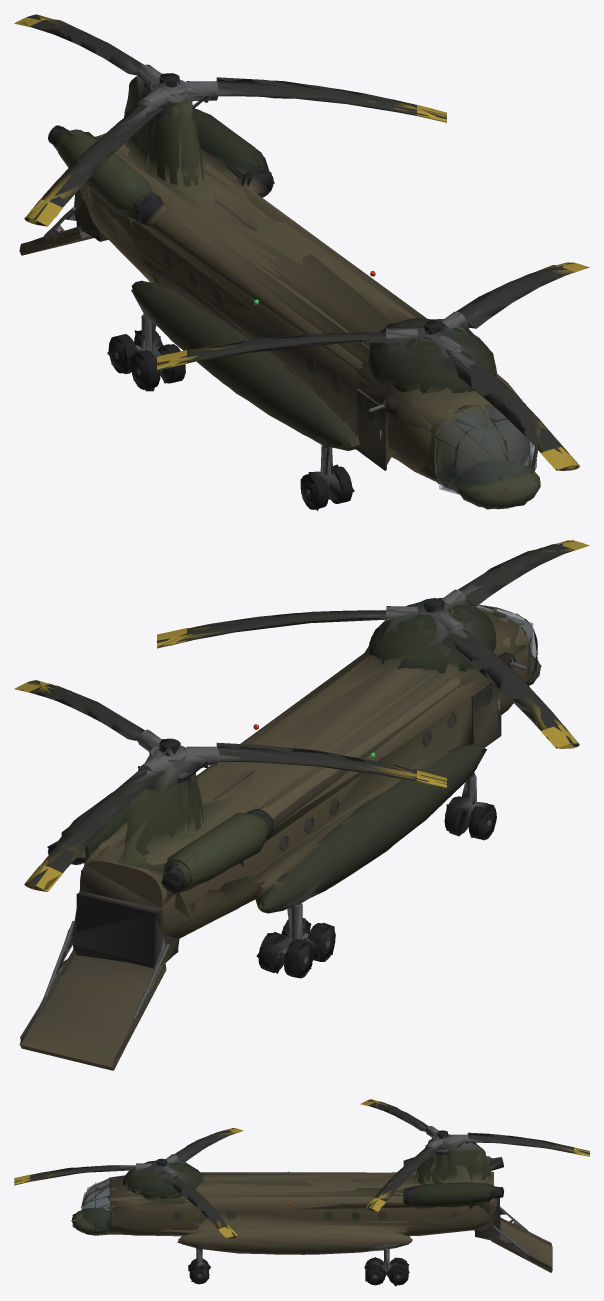
File: heli_w.glb
The picture shows the model from 3 angles, top to bottom: view 1: azimuth 30°, elevation 25°; view 2: azimuth 150°, elevation 25°; view 3: azimuth 270°, elevation 25°; orthographic projection. The views are drawn at different scales.
Visible parts, largest first — view 1: L0_01_hull_opaque, L1_03_hull_opaque, L2_04_hull_opaque, L0_00_hull_glass, L1_02_hull_glass; view 2: L0_01_hull_opaque, L2_04_hull_opaque, L1_03_hull_opaque, L0_00_hull_glass; view 3: L0_01_hull_opaque, L1_03_hull_opaque, L2_04_hull_opaque, L0_00_hull_glass, L1_02_hull_glass.
Boxes of the visible parts, bbox=[...] form: L0_01_hull_opaque: bbox=[14, 14, 589, 509]; L1_03_hull_opaque: bbox=[19, 14, 588, 509]; L2_04_hull_opaque: bbox=[16, 19, 577, 511]; L0_00_hull_glass: bbox=[164, 252, 536, 490]; L1_02_hull_glass: bbox=[366, 398, 531, 494]; L0_01_hull_opaque: bbox=[14, 540, 589, 1070]; L2_04_hull_opaque: bbox=[20, 549, 576, 1069]; L1_03_hull_opaque: bbox=[19, 540, 575, 1070]; L0_00_hull_glass: bbox=[279, 605, 536, 851]; L0_01_hull_opaque: bbox=[14, 1099, 589, 1285]; L1_03_hull_opaque: bbox=[14, 1099, 589, 1284]; L2_04_hull_opaque: bbox=[31, 1101, 589, 1286]; L0_00_hull_glass: bbox=[81, 1179, 386, 1232]; L1_02_hull_glass: bbox=[82, 1180, 359, 1231].
Size of the model in its own units: 11.76 by 6.44 by 25.82.
